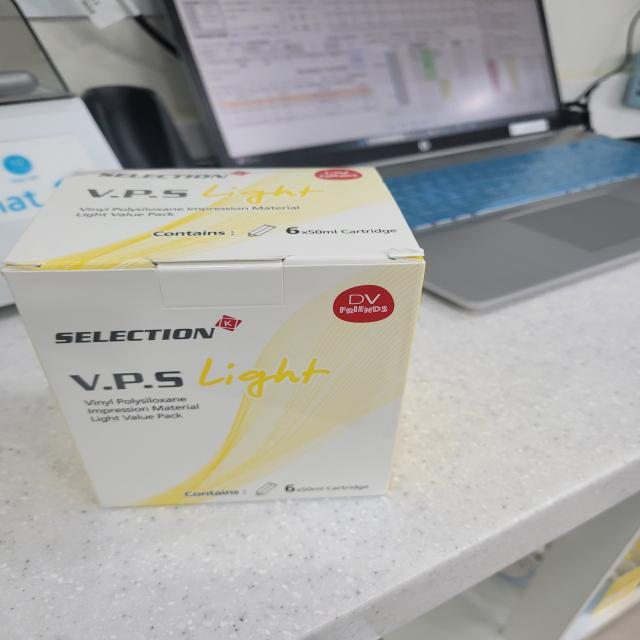impression: (0, 156, 449, 518)
